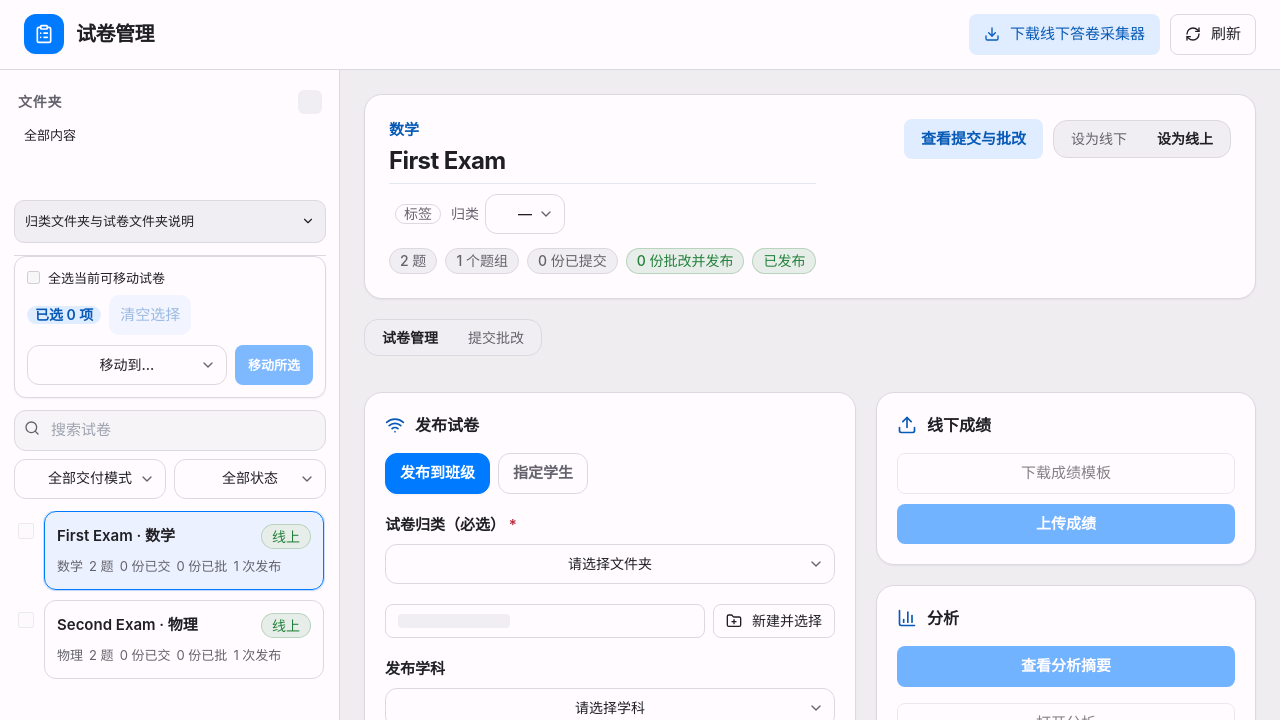
Scenario: PapersWorkspace request generation and lifecycle guards › drops late submission response when user switches paper during grading load
Go to grading view for paper-1
Click the button with test id "paper-tab-grading" at [496, 337], box [454,322,538,352]
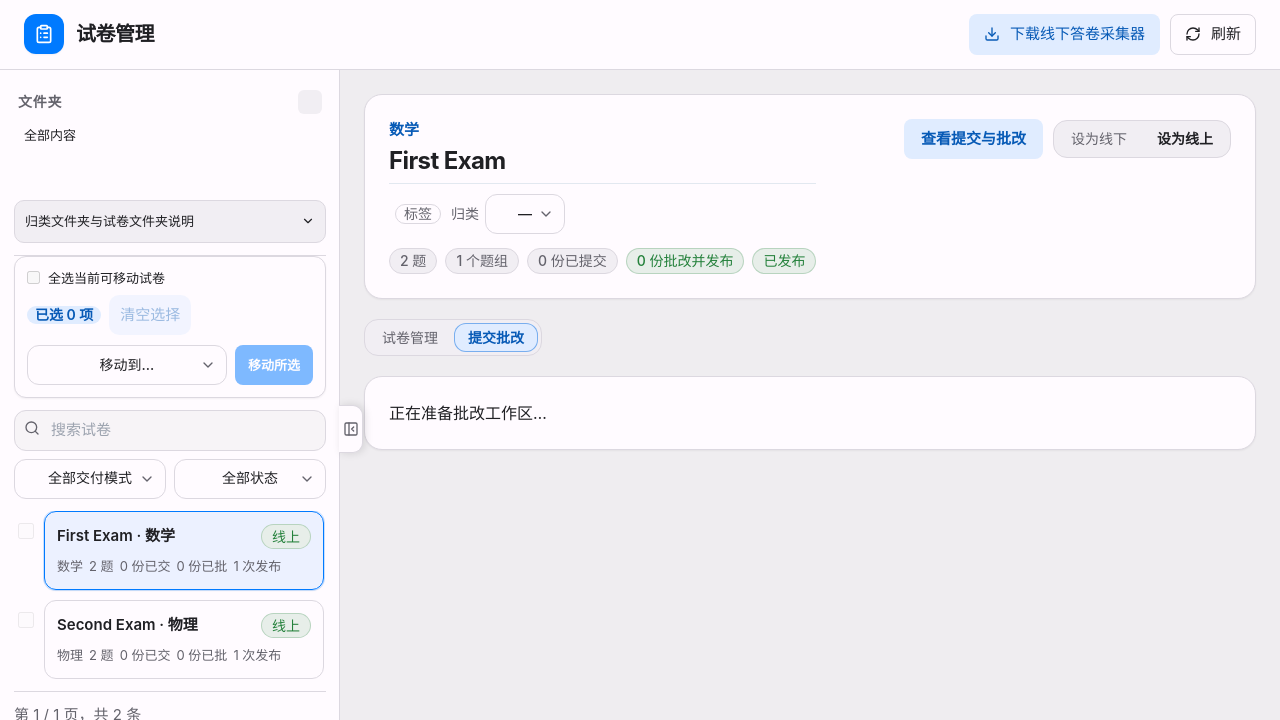
While paper-1 submissions are still in flight, teacher switches to paper-2
Click the button "Second Exam · 物理 线上 物理 2 题 0 份已交 0 份已批 1 次发布" at [106, 624], box [44,600,324,678]
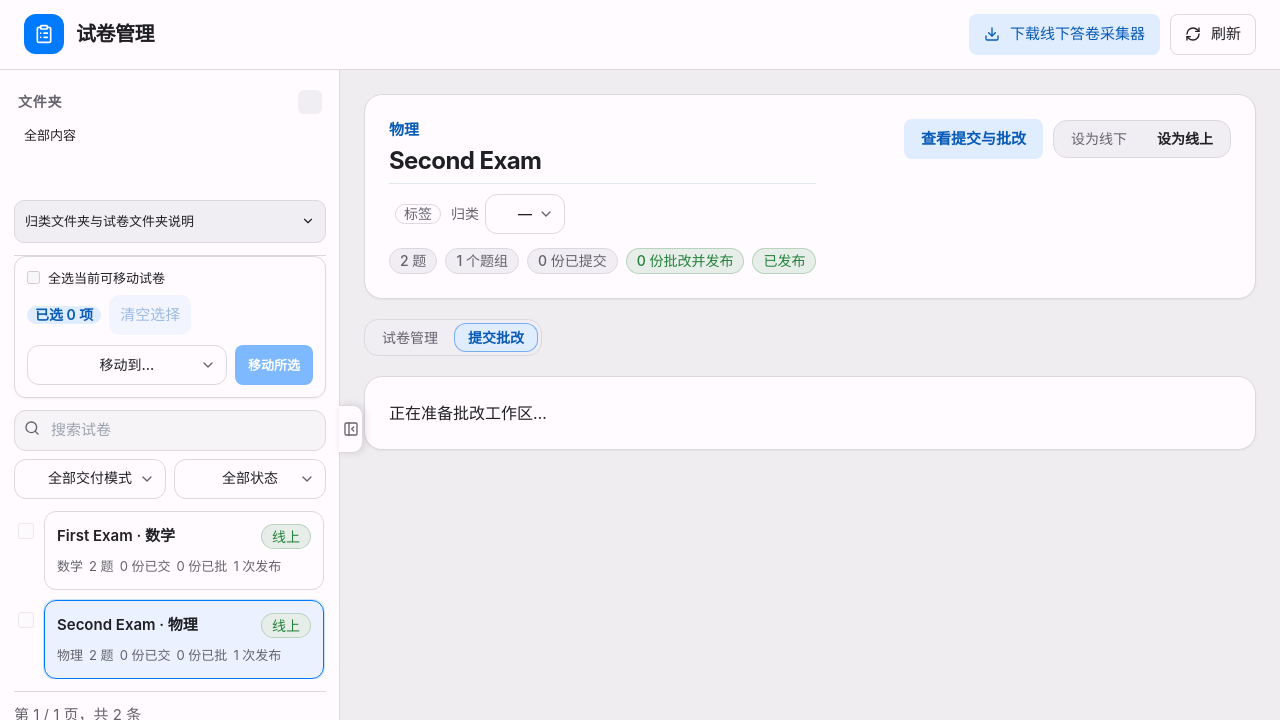
Re-enter grading view for paper-2
Click the button with test id "paper-tab-grading" at [496, 337], box [454,322,538,352]
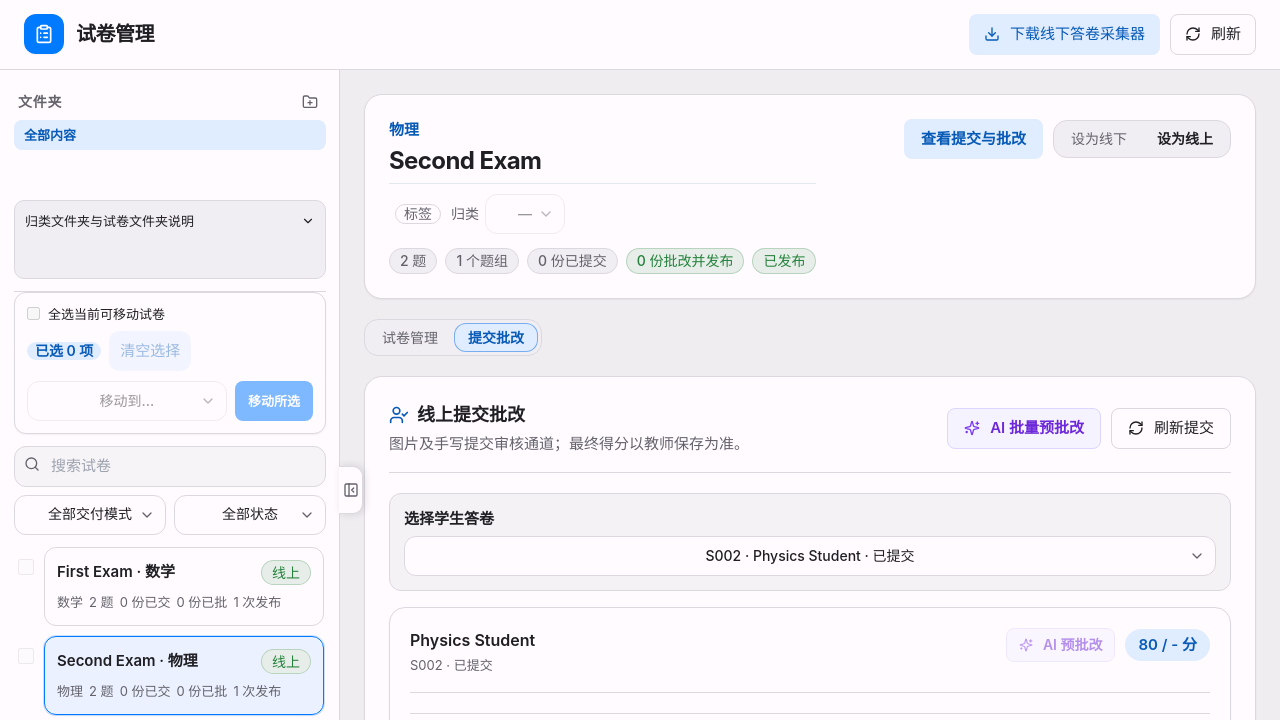
Now the heading "Physics Student" is shown, box [410,628,535,652]
